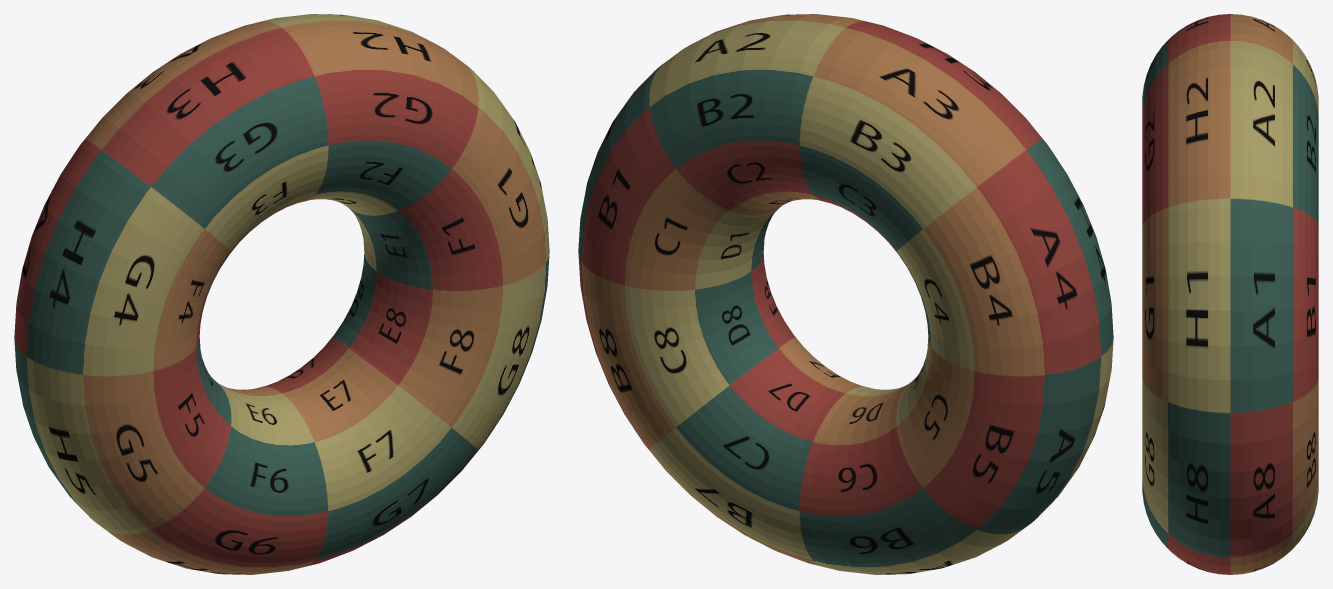
Rendered from texture_torus_R2_r12.glb.
The picture shows the model from 3 angles, left to right: view 1: azimuth 30°, elevation 25°; view 2: azimuth 150°, elevation 25°; view 3: azimuth 270°, elevation 25°; orthographic projection. The views are drawn at different scales.
Visible parts, largest first — view 1: world; view 2: world; view 3: world.
Boxes of the visible parts, left/top/right/bottom form: world: left=14, top=14, right=549, bottom=574; world: left=578, top=14, right=1113, bottom=574; world: left=1142, top=14, right=1318, bottom=574.
Bounding box in the file's own units: 16.53 × 16.5 × 5.19.
1 material, 1 textured.
